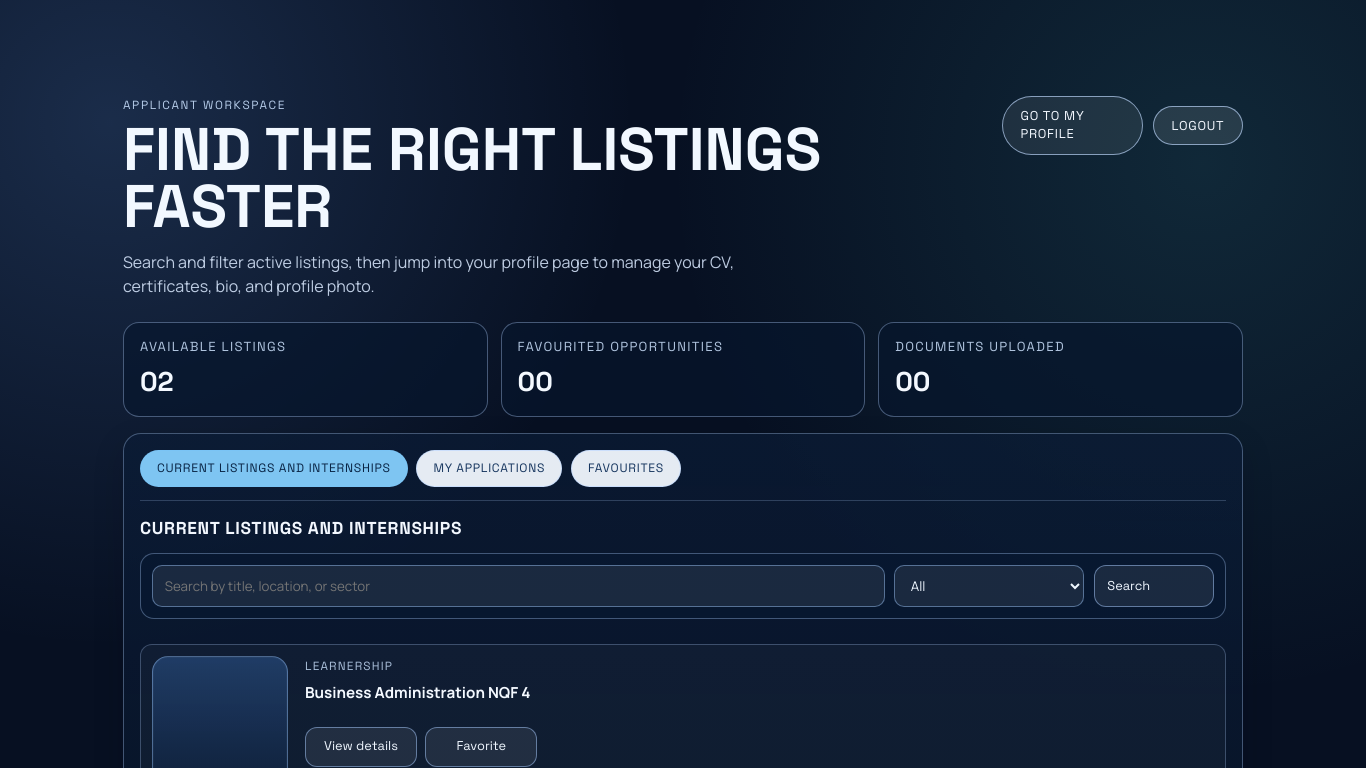
Scenario: Dashboard coverage tests › searching for a missing listing shows the no-results state
Step 1. Type "marketing" into the search field with placeholder "Search by title, location, or sector" → [518, 586], box 152,565 -> 885,607
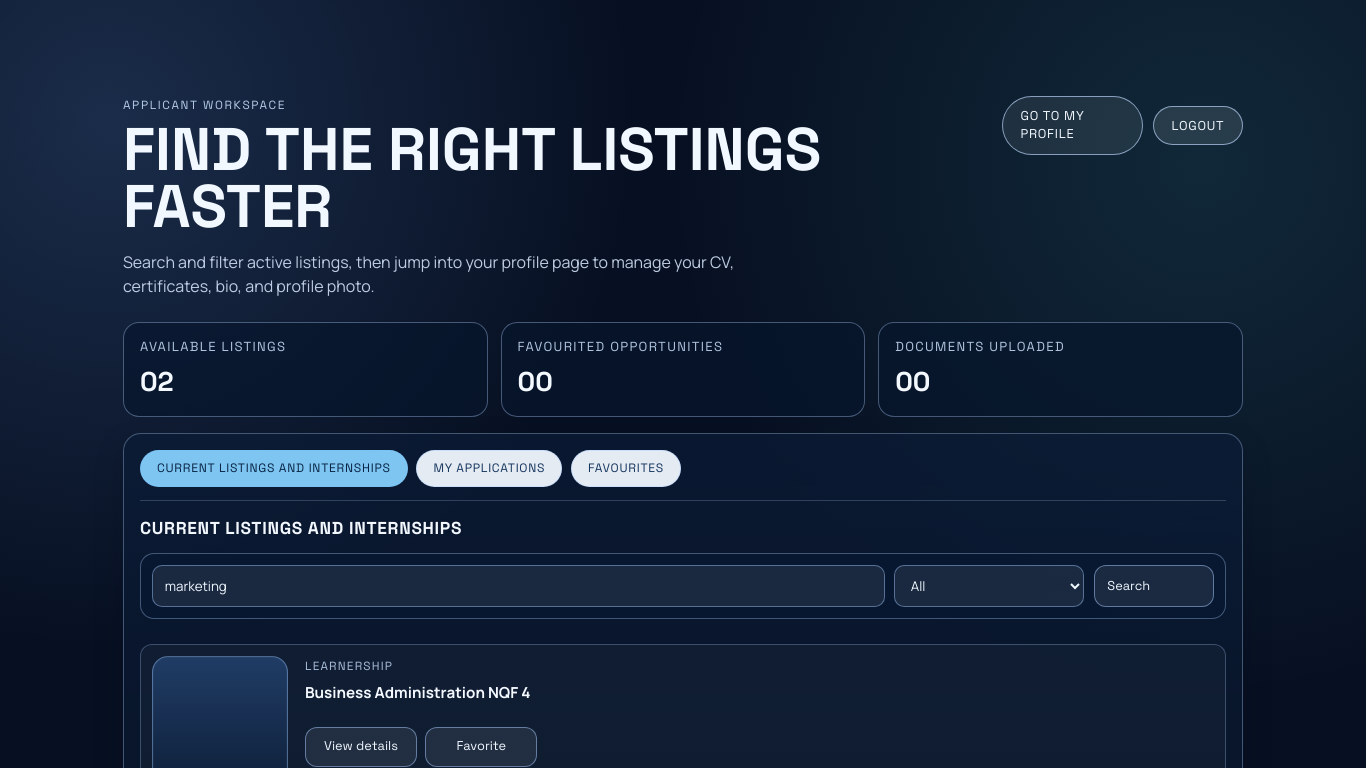
Step 2. Submit the form "Search", box 140,553 -> 1226,619
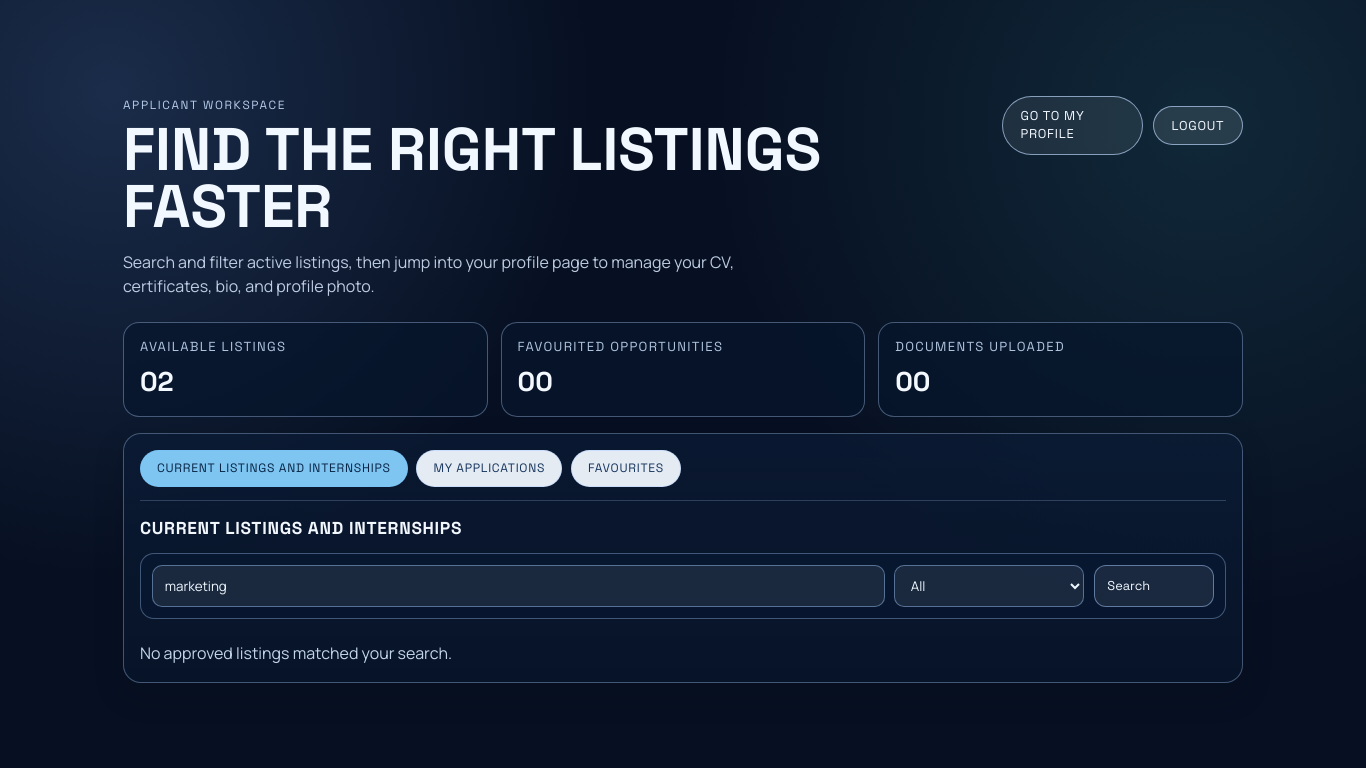
expect the text "No approved listings matched your search." is shown: met, box 140,642 -> 452,664
